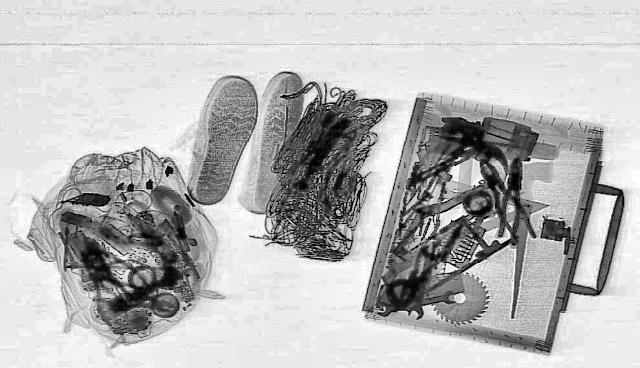Pliers: (65, 250, 152, 326), (468, 157, 540, 243), (494, 157, 528, 238)
Wrench: (405, 241, 439, 320), (370, 289, 460, 317)
